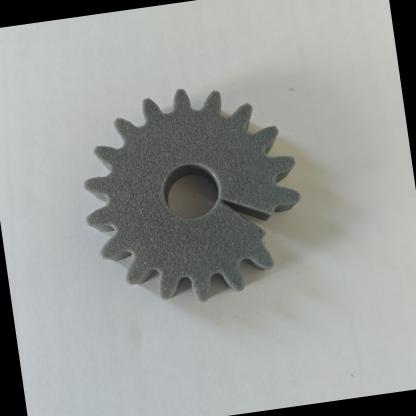defect: (196, 158, 316, 278)
gear: (61, 64, 327, 322)
